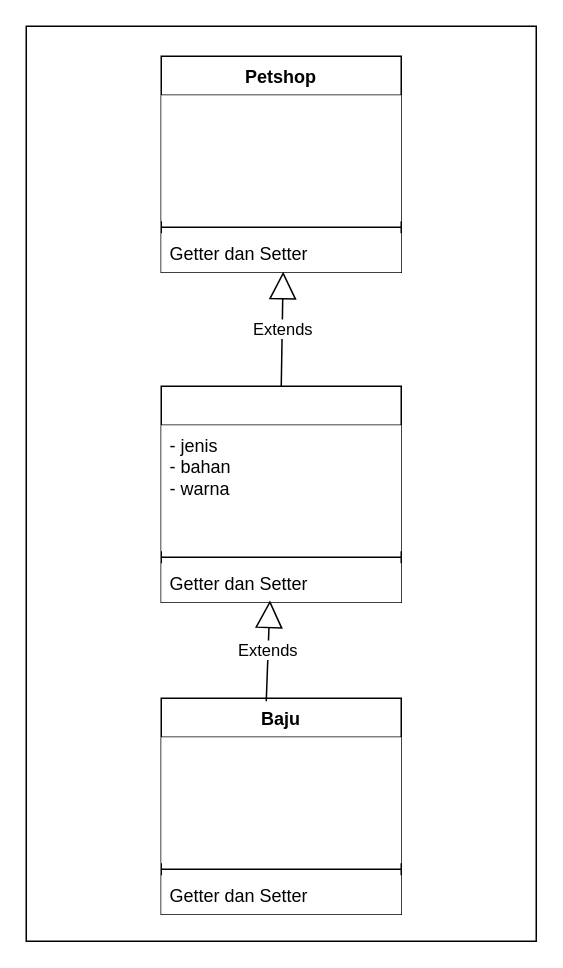
Some shapes in this 563 by 968 pixel diagram are drawn without their labels. Each missing label, with the box of its shape:
- id - nama_produk - harga_produk - stok_produk - foto_produk: (160, 94, 400, 220)
- untuk - size - merk: (160, 736, 400, 862)
Aksesoris: (160, 385, 401, 602)
